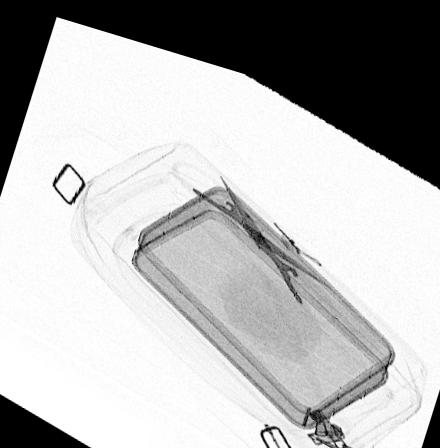Scissors: (169, 151, 339, 305)
